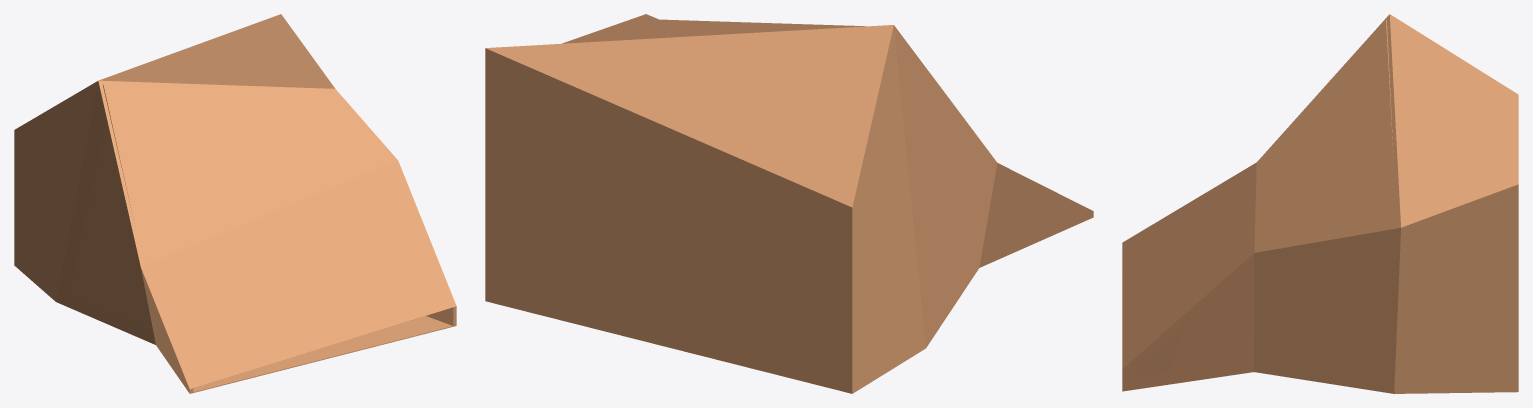
The model's file is bagof groceries.fbx.
3 views of the same model, side by side, from view 1: azimuth 30°, elevation 25°; view 2: azimuth 150°, elevation 25°; view 3: azimuth 270°, elevation 25° (orthographic). The views are drawn at different scales.
Parts seen in each view (by area): view 1: Plane; view 2: Plane; view 3: Plane.
Boxes of the visible parts, x1,y1,x2,y2 form: Plane: (14,14,456,393); Plane: (485,14,1093,393); Plane: (1122,14,1518,393).
Size of the model in its own units: 206 by 158 by 228.
